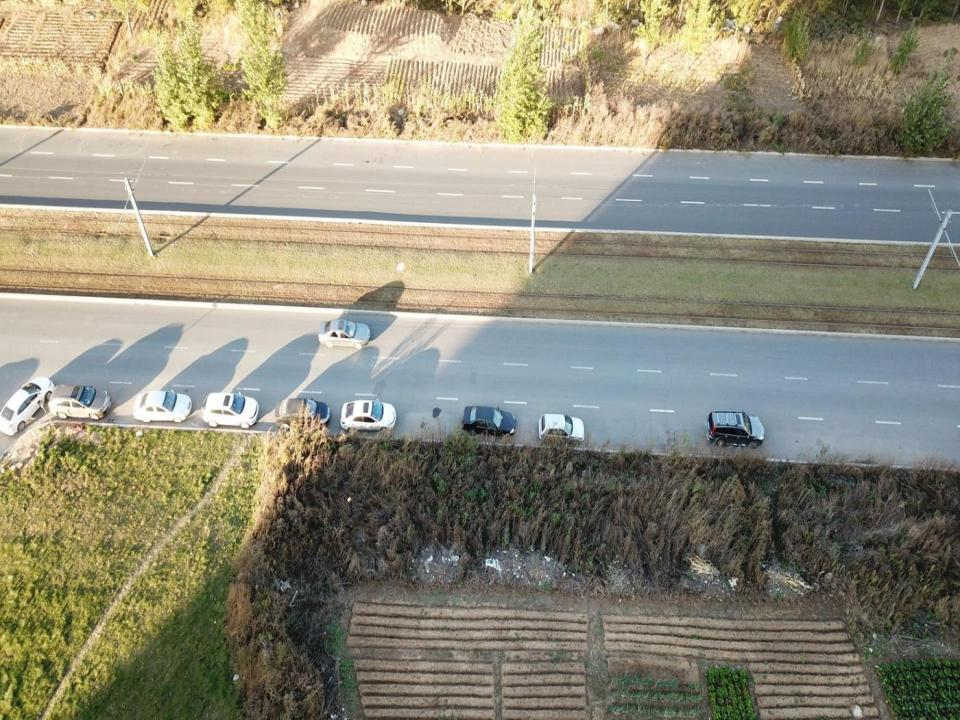car: (0, 370, 53, 436), (702, 408, 766, 450), (48, 387, 110, 423), (202, 391, 258, 430), (132, 390, 192, 426), (462, 405, 518, 442), (340, 401, 396, 437), (274, 399, 330, 432), (538, 413, 586, 448), (319, 317, 369, 350)
